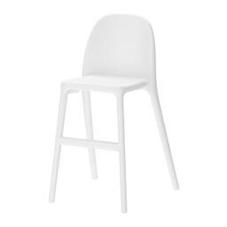chair: (14, 8, 211, 219)
